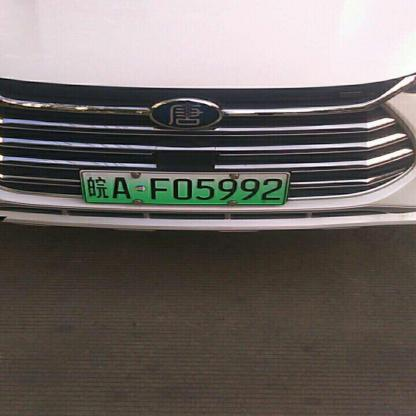lp: (82, 170, 288, 202)
